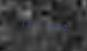eight: (24, 18, 30, 29)
four: (31, 18, 37, 30)
nine: (52, 20, 58, 32)
one: (17, 17, 23, 29)
seven: (38, 19, 44, 31)
six: (45, 20, 51, 31)
zero: (59, 21, 65, 32)
